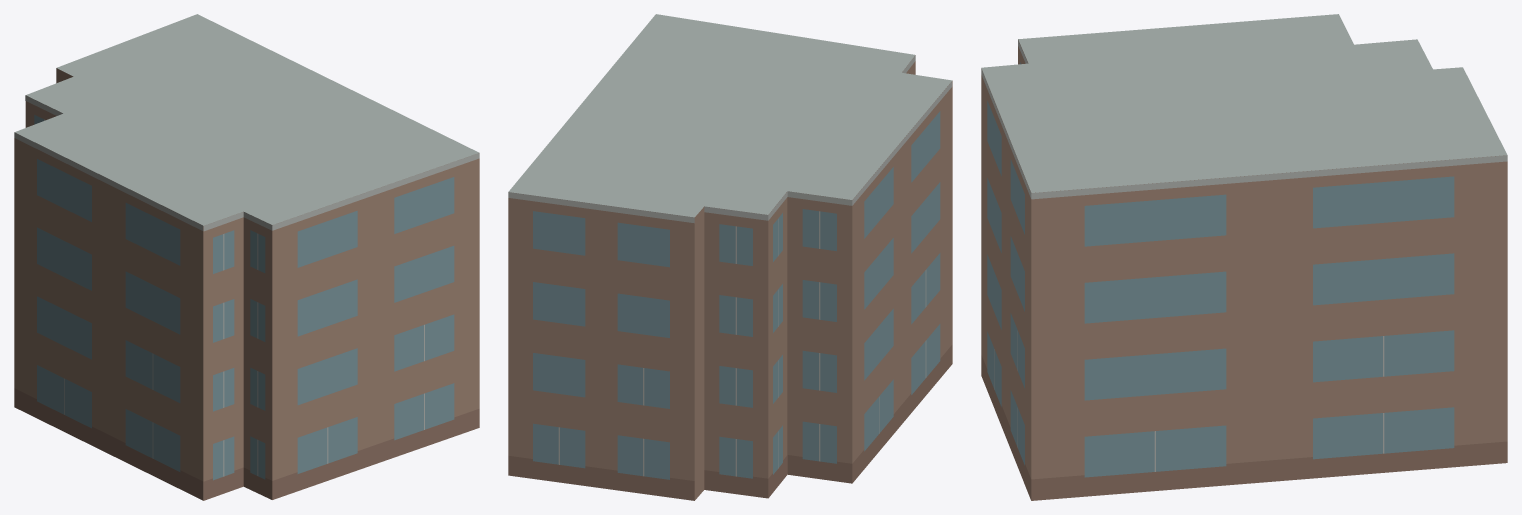
Rendered from survey-upis-32524250.glb.
3 views of the same model, side by side, from view 1: azimuth 30°, elevation 25°; view 2: azimuth 150°, elevation 25°; view 3: azimuth 270°, elevation 25° (orthographic). The views are drawn at different scales.
Visible parts, largest first — view 1: survey-upis-32524250.tmp; view 2: survey-upis-32524250.tmp; view 3: survey-upis-32524250.tmp.
Part boxes in pixels (x1,y1,x2,y2): survey-upis-32524250.tmp: (14, 14, 479, 500); survey-upis-32524250.tmp: (508, 14, 952, 500); survey-upis-32524250.tmp: (981, 14, 1507, 500).
Size of the model in its own units: 14.79 by 11.85 by 18.37.
